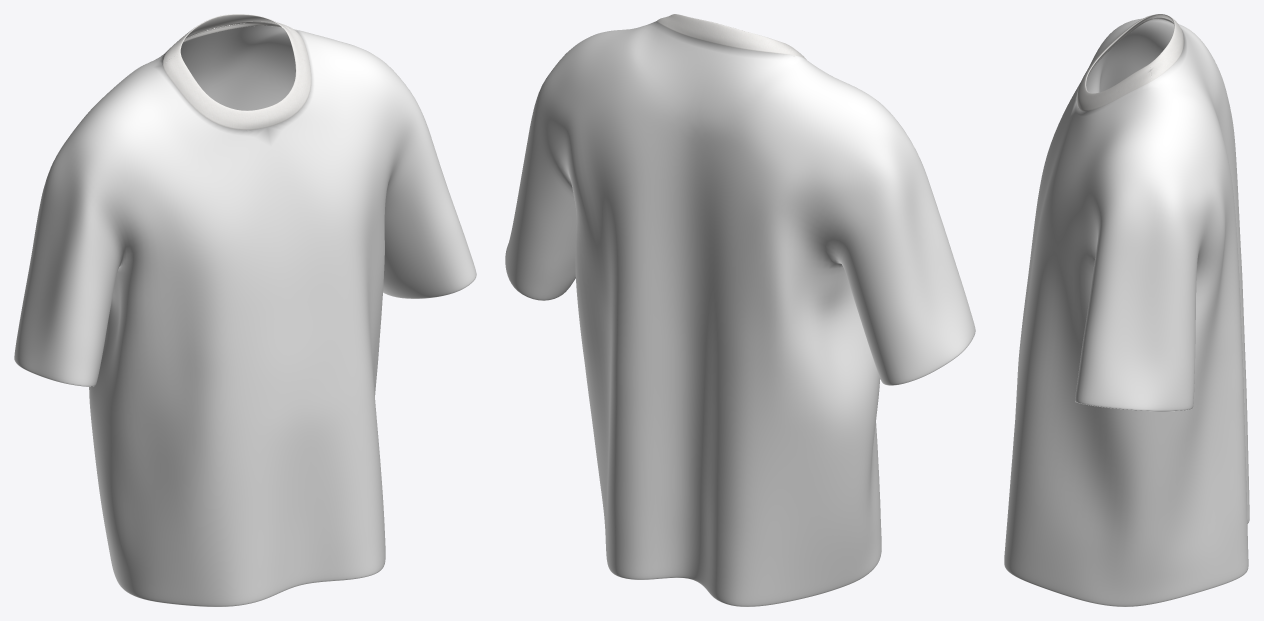
The model's file is t-shirt_low_poly.glb.
The picture shows the model from 3 angles, left to right: view 1: azimuth 30°, elevation 25°; view 2: azimuth 150°, elevation 25°; view 3: azimuth 270°, elevation 25°; orthographic projection. The views are drawn at different scales.
Visible parts, largest first — view 1: T-Shirt; view 2: T-Shirt; view 3: T-Shirt.
Boxes of the visible parts, x1,y1,x2,y2 form: T-Shirt: (14,14,476,606); T-Shirt: (505,14,975,606); T-Shirt: (1004,14,1249,606).
Size of the model in its own units: 0.9123 by 1.06 by 0.4489.
Materials: 1 (1 with a texture image).
